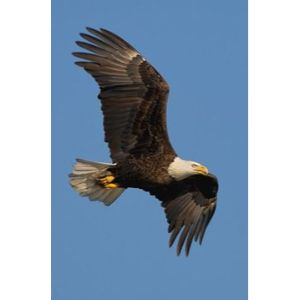eagle: (68, 22, 222, 258)
